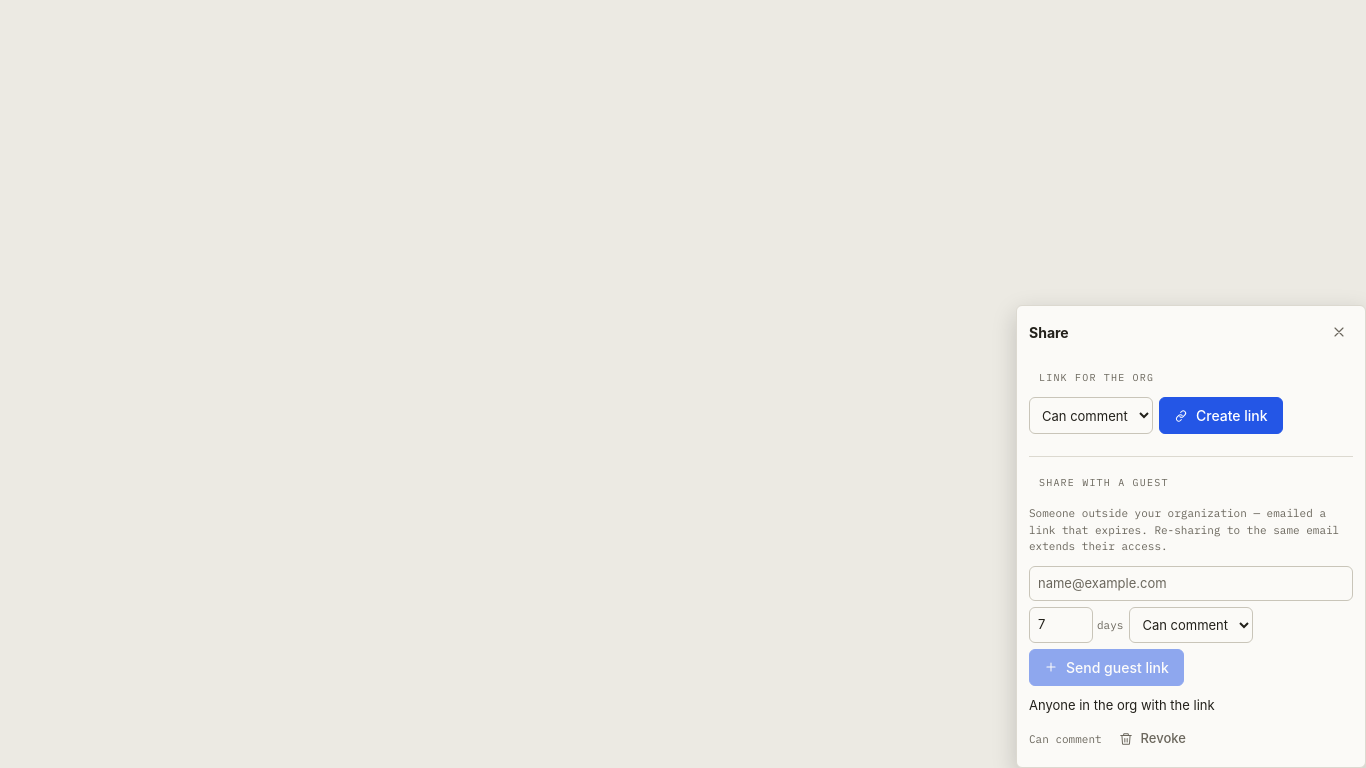
Test case: SharePanel — revoke confirm flow › cancels without revoking
This screenshot has width=1366, height=768.
(page scrolled)
Expected: the text "Anyone in the org with the link" is shown, [1029,696,1215,712]
Click the button "Revoke".
click(1152, 739)  # box [1110,723,1195,754]
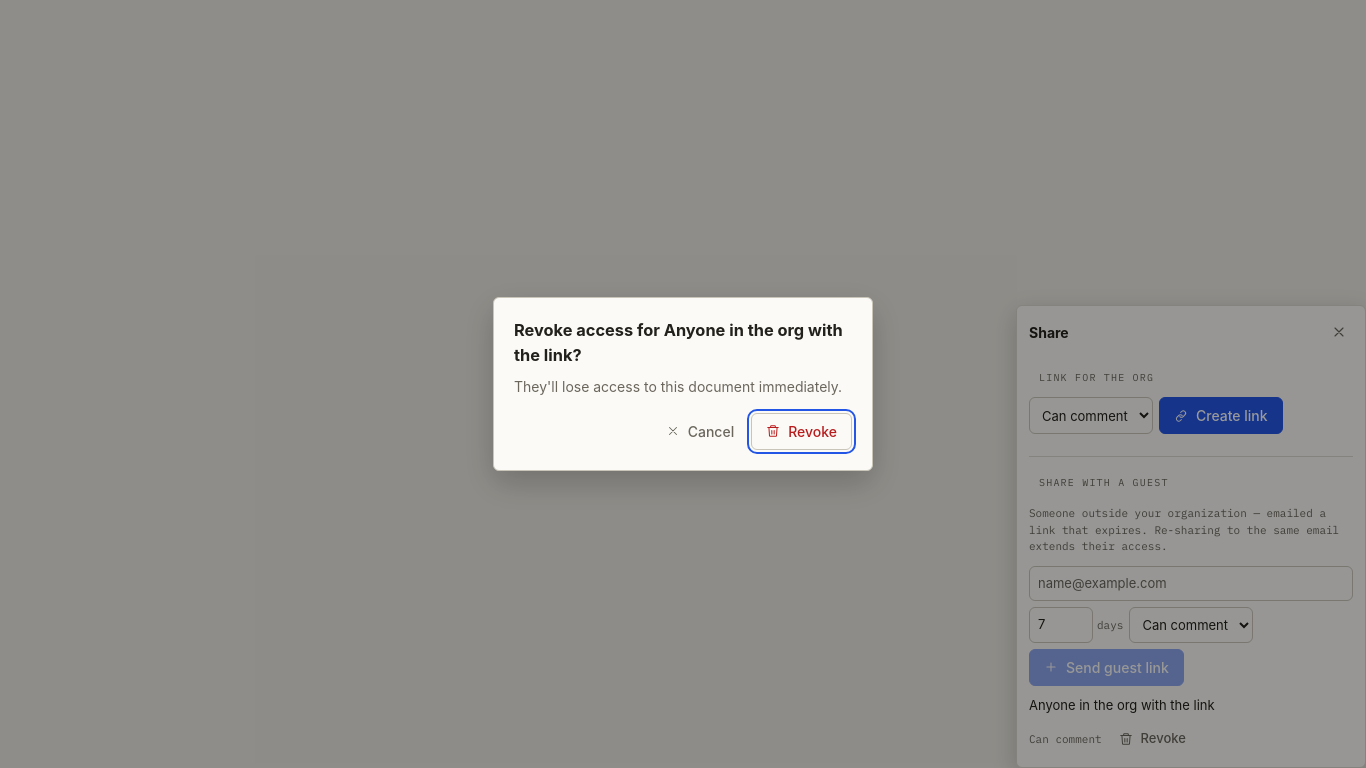
Click the button "Cancel".
click(700, 431)  # box [657,413,743,450]
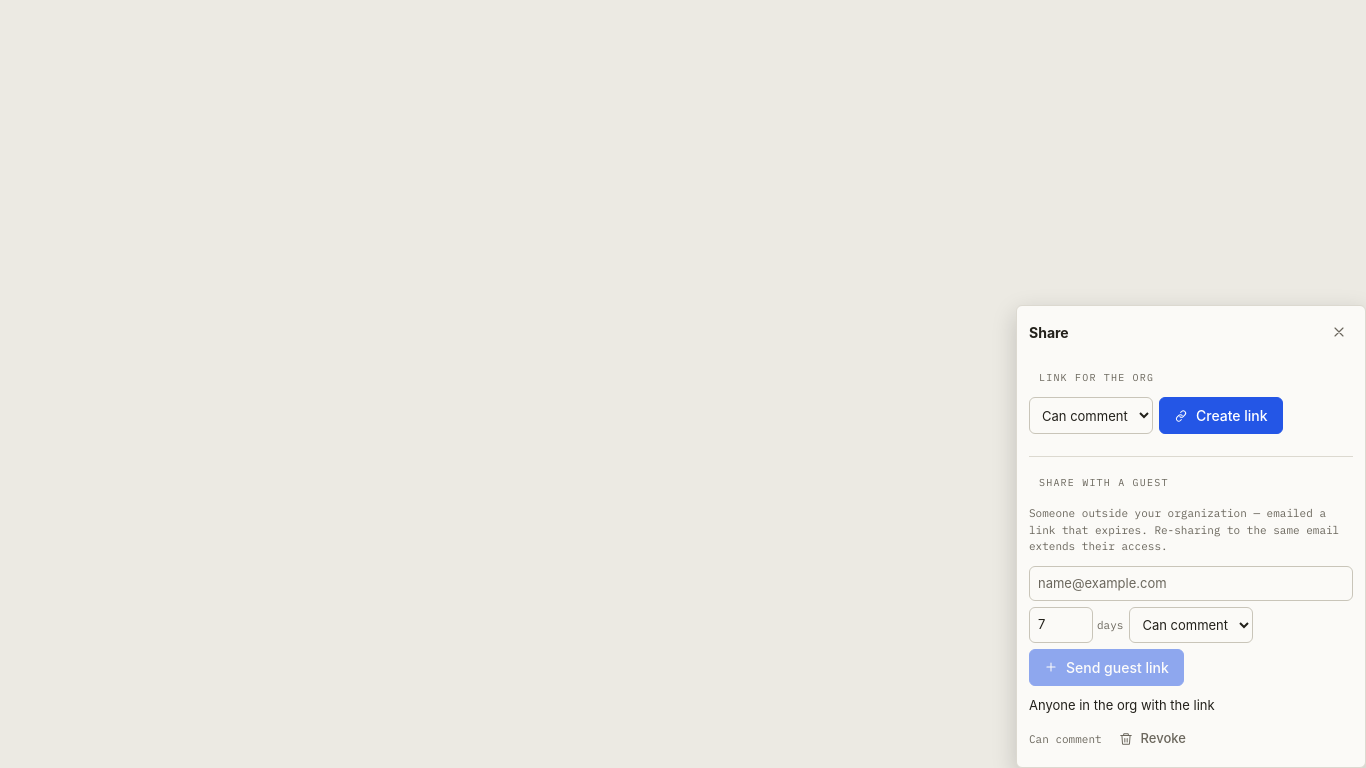
Result: the dialog is gone
